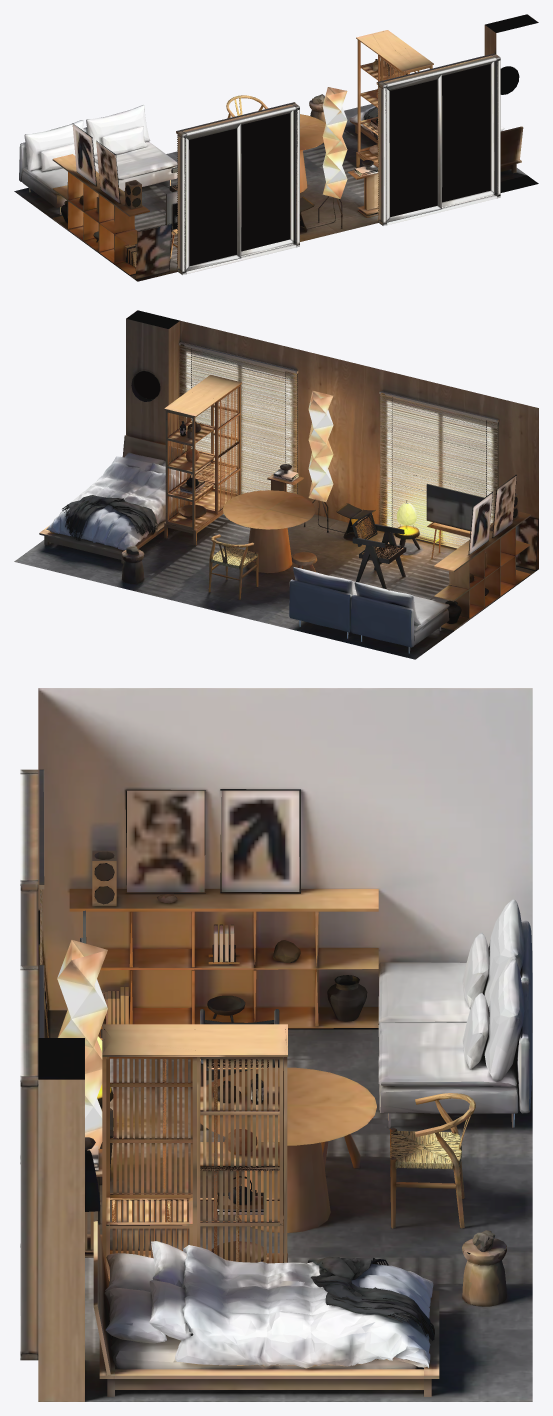
File: compressed_alt5.glb
The picture shows the model from 3 angles, top to bottom: view 1: azimuth 30°, elevation 25°; view 2: azimuth 150°, elevation 25°; view 3: azimuth 270°, elevation 25°; orthographic projection. The views are drawn at different scales.
Visible parts, largest first — view 1: Plane_Baked.007; view 2: Plane_Baked.007; view 3: Plane_Baked.007.
Part boxes in pixels (x1,y1,x2,y2): Plane_Baked.007: (14, 14, 538, 281); Plane_Baked.007: (14, 310, 538, 659); Plane_Baked.007: (20, 688, 532, 1401).
Size of the model in its own units: 6 by 2.3 by 3.32.
Materials: 4 (4 with a texture image).
